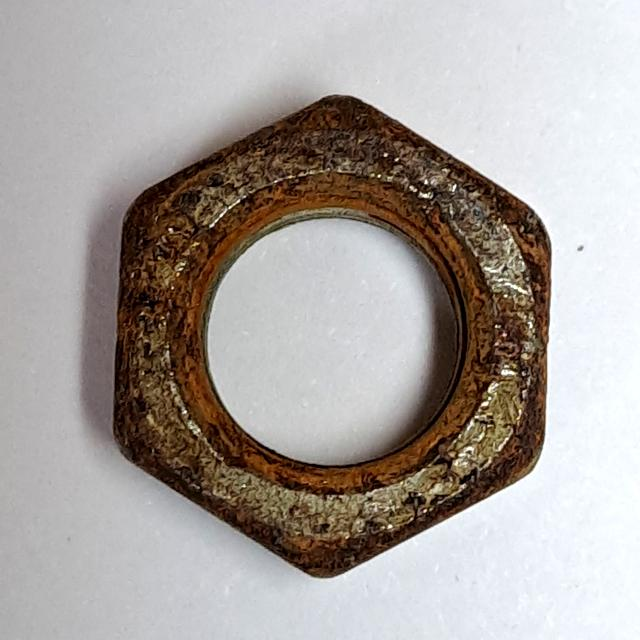Rust: (104, 83, 564, 590)
